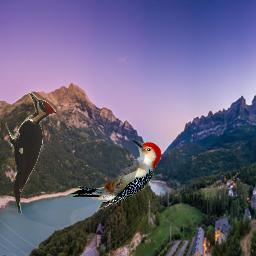Woodpecker: (69, 139, 161, 213), (1, 92, 56, 214)
